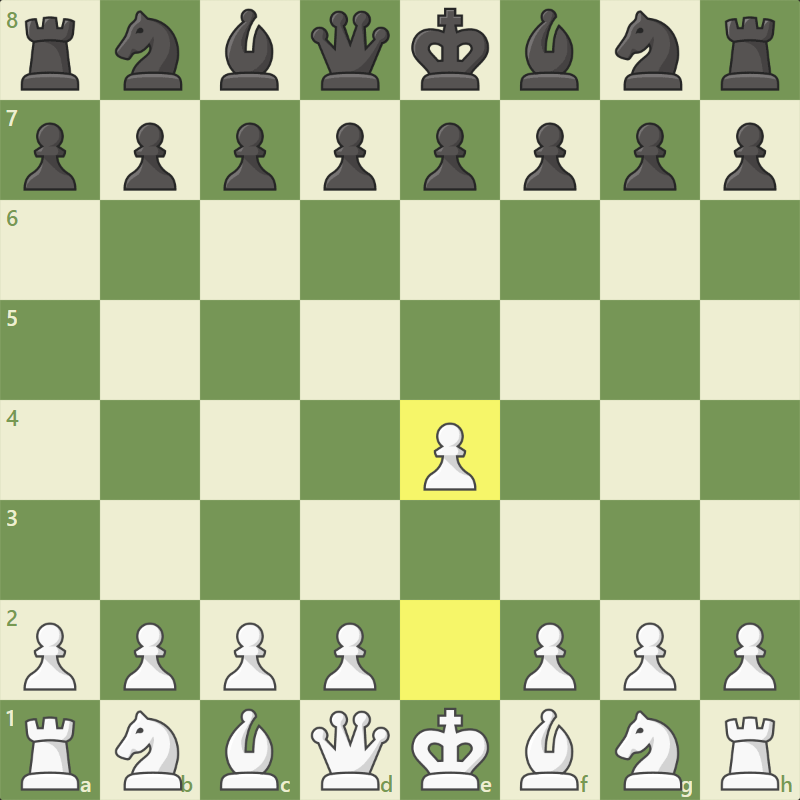B: (517, 707, 581, 794), (218, 707, 281, 793)
K: (409, 706, 491, 793)
N: (614, 710, 685, 793), (114, 710, 184, 794)
P: (21, 620, 80, 694), (120, 620, 179, 694), (221, 620, 280, 694), (321, 620, 380, 694), (521, 619, 580, 693), (619, 620, 678, 694), (719, 619, 778, 693), (420, 421, 479, 495)
Q: (308, 708, 393, 794)
R: (19, 713, 81, 793), (719, 714, 781, 793)
b: (217, 6, 282, 94), (517, 7, 581, 94)
k: (409, 5, 492, 94)
n: (113, 8, 186, 94), (612, 8, 685, 93)
p: (20, 120, 78, 193), (120, 120, 178, 193), (221, 120, 279, 193), (321, 120, 379, 193), (421, 121, 479, 194), (521, 121, 579, 194), (620, 121, 678, 194), (721, 121, 779, 194)
q: (309, 8, 392, 93)
r: (17, 14, 82, 94), (718, 13, 782, 93)
